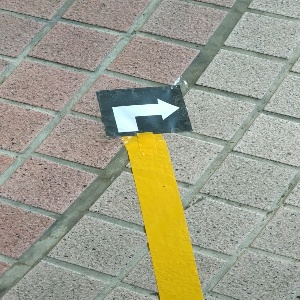right: (95, 86, 193, 134)
